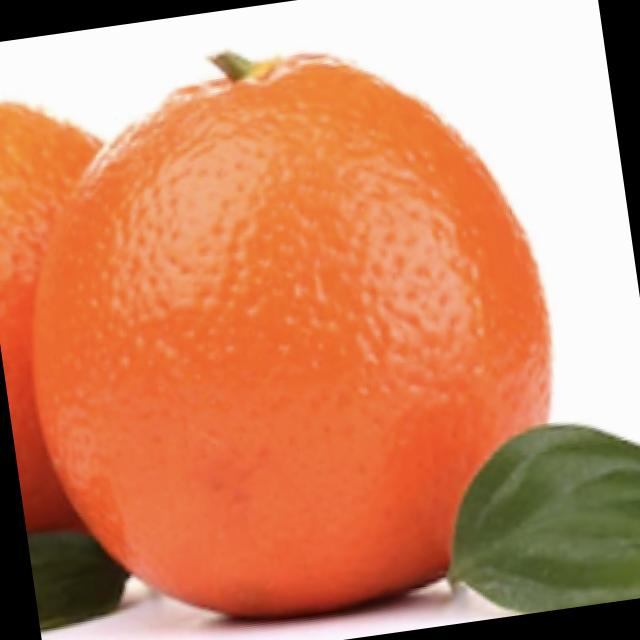pineapple: (0, 0, 611, 640)
